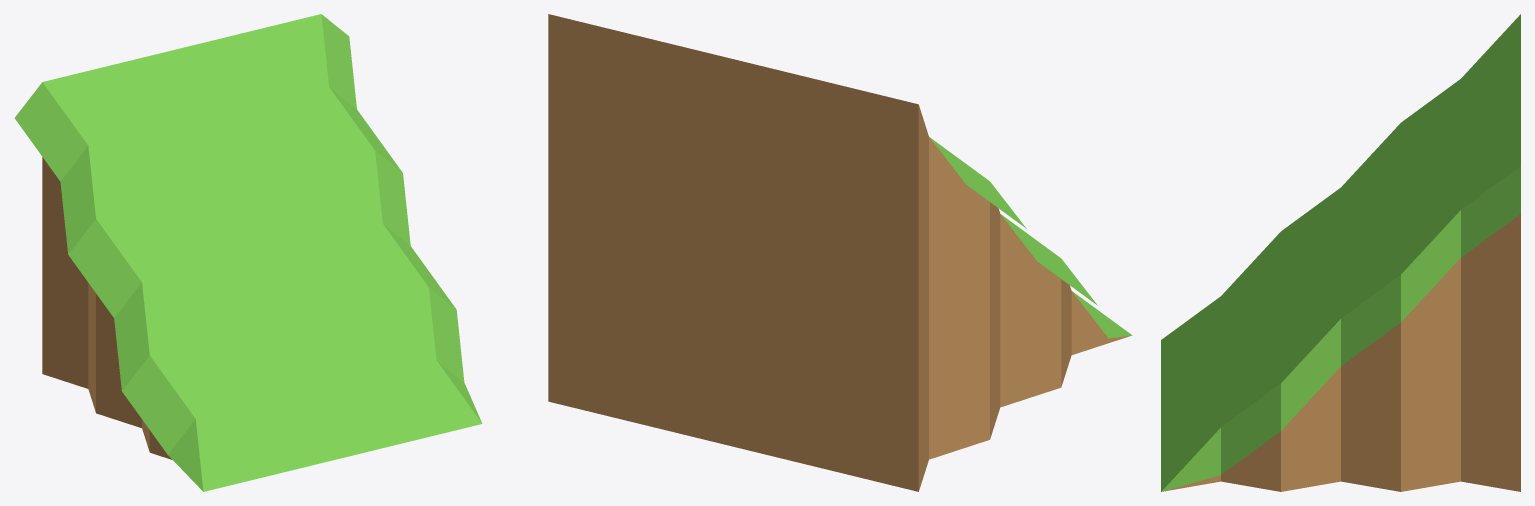
File: cliff-slope.glb
3 renders of one model, left to right at view 1: azimuth 30°, elevation 25°; view 2: azimuth 150°, elevation 25°; view 3: azimuth 270°, elevation 25°, orthographic. The views are drawn at different scales.
Parts seen in each view (by area): view 1: cliff_blockSlope_rock; view 2: cliff_blockSlope_rock; view 3: cliff_blockSlope_rock.
Boxes of the visible parts, bbox=[...] form: cliff_blockSlope_rock: bbox=[14, 14, 482, 491]; cliff_blockSlope_rock: bbox=[548, 14, 1132, 491]; cliff_blockSlope_rock: bbox=[1161, 14, 1520, 491].
Size of the model in its own units: 4.8 by 4 by 4.
